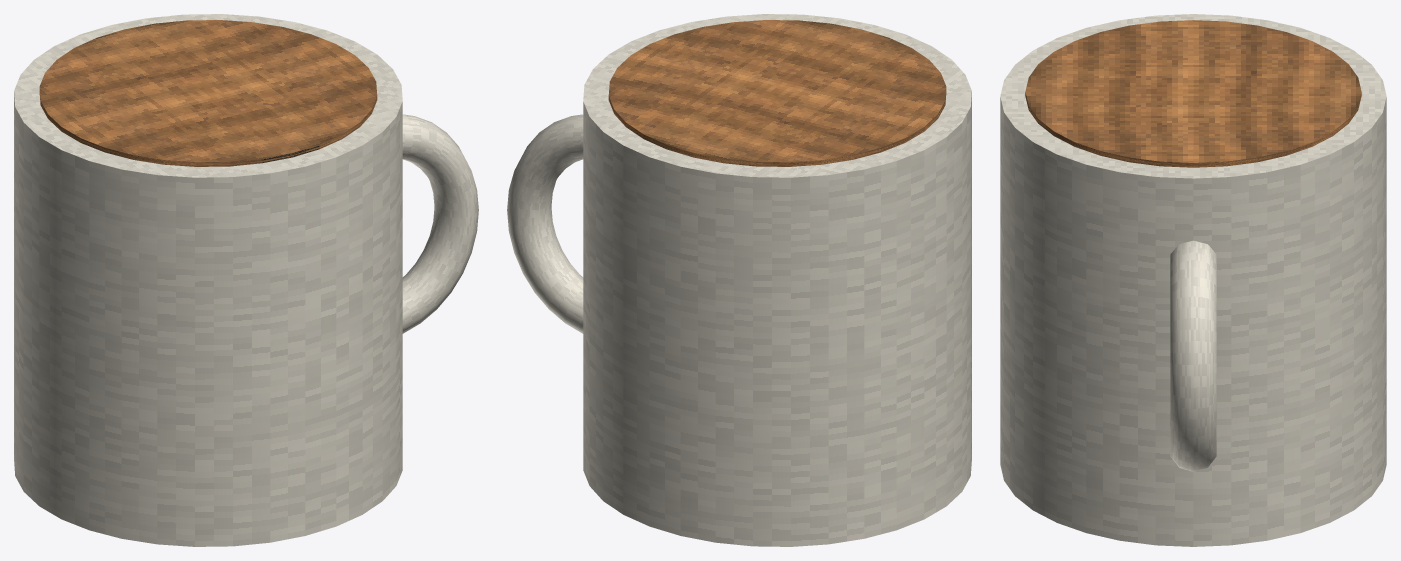
Rendered from mug.glb.
The picture shows the model from 3 angles, left to right: view 1: azimuth 30°, elevation 25°; view 2: azimuth 150°, elevation 25°; view 3: azimuth 270°, elevation 25°; orthographic projection.
Visible parts, largest first — view 1: cup, inside, handle; view 2: cup, inside, handle; view 3: cup, inside, handle.
Part boxes in pixels (x1,y1,x2,y2): cup: (14,14,402,546); inside: (39,20,377,166); handle: (402,114,478,333); cup: (583,14,971,546); inside: (608,20,946,166); handle: (507,114,583,333); cup: (1000,14,1386,546); inside: (1025,20,1361,167); handle: (1170,240,1216,471).
Size of the model in its own units: 0.1235 by 0.1012 by 0.095.
2 materials, 2 textured.
